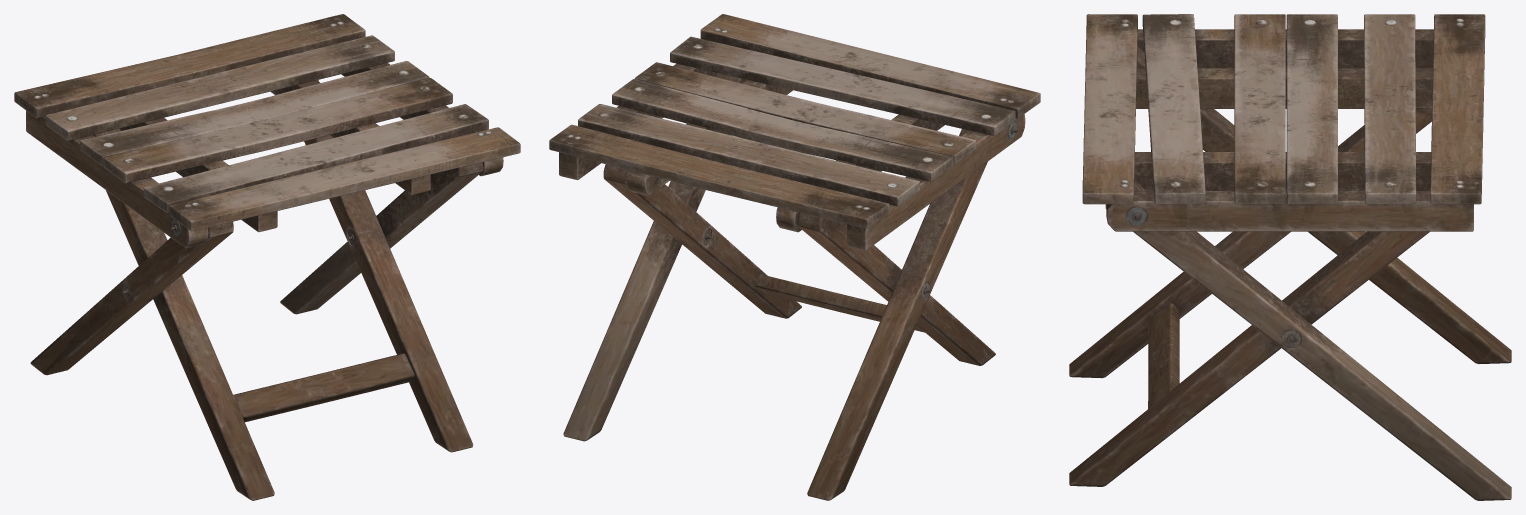
The model's file is folding_wooden_stool.glb.
3 renders of one model, left to right at view 1: azimuth 30°, elevation 25°; view 2: azimuth 150°, elevation 25°; view 3: azimuth 270°, elevation 25°, orthographic. The views are drawn at different scales.
Parts seen in each view (by area): view 1: folding_wooden_stool; view 2: folding_wooden_stool; view 3: folding_wooden_stool.
Boxes of the visible parts, x1,y1,x2,y2 form: folding_wooden_stool: [14, 14, 520, 500]; folding_wooden_stool: [549, 14, 1040, 500]; folding_wooden_stool: [1069, 14, 1511, 500].
Size of the model in its own units: 0.5278 by 0.442 by 0.5471.
Materials: 1 (1 with a texture image).
